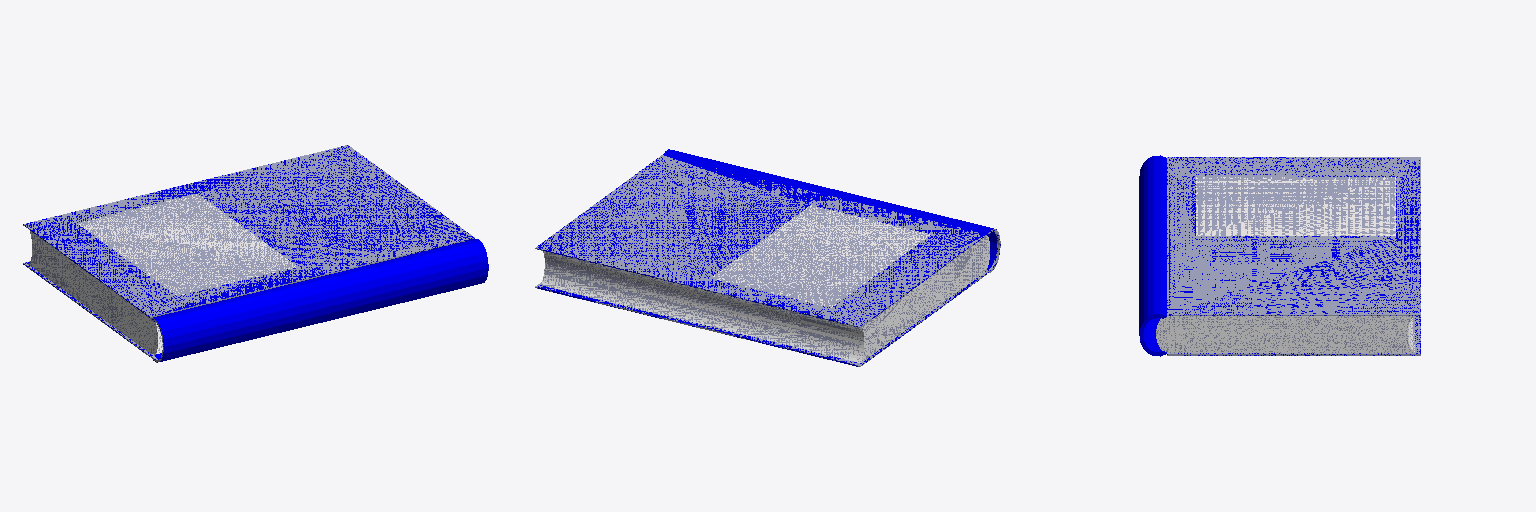
3 views of the same model, side by side, from view 1: azimuth 30°, elevation 25°; view 2: azimuth 150°, elevation 25°; view 3: azimuth 270°, elevation 25° (orthographic).
Visible parts, largest first — view 1: SketchUp_ID3.003; view 2: SketchUp_ID3.003; view 3: SketchUp_ID3.003.
Part boxes in pixels (left/top/right/bottom): SketchUp_ID3.003: left=23, top=145, right=488, bottom=362; SketchUp_ID3.003: left=535, top=149, right=1000, bottom=366; SketchUp_ID3.003: left=1139, top=155, right=1420, bottom=356.
Bounding box in the file's own units: 0.8 × 0.1 × 0.6.